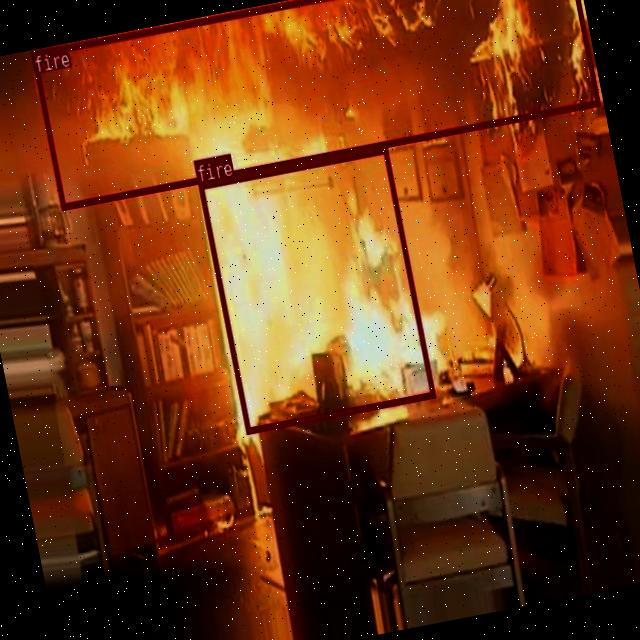fire: (30, 0, 599, 209), (198, 146, 434, 434)
